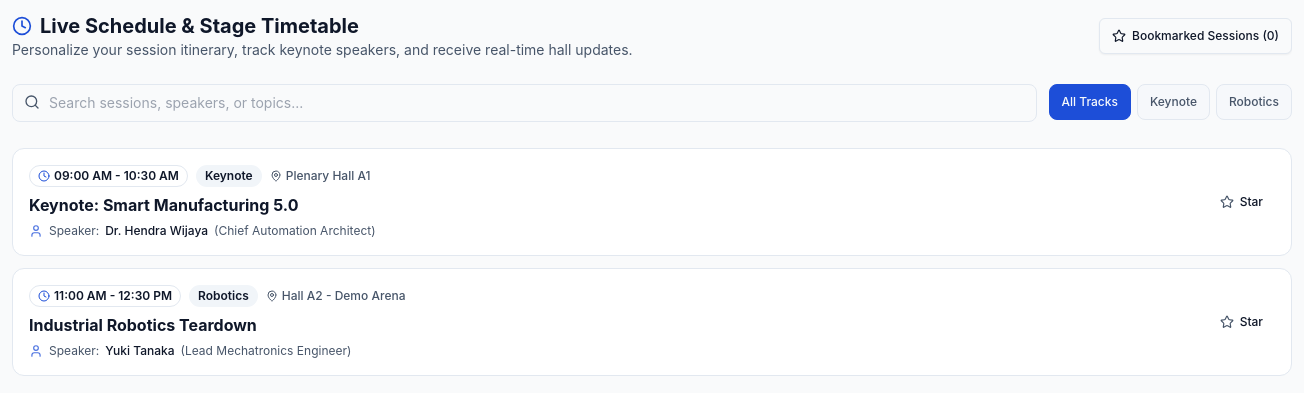
Test case: Phase 6 Unit: Ticket & Event Treats Component System › InteractiveGuidebook Component › toggles Add to My Agenda bookmark star
The width and height of the screenshot is (1304, 393).
# Bookmark first session
Click the 1st button "Star" at (1241, 202), box [1208,184,1275,220]
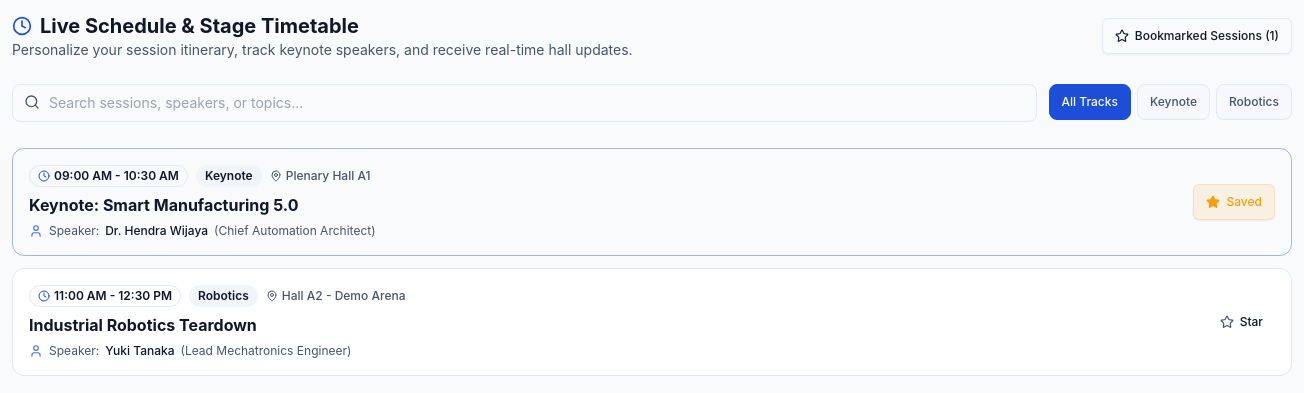
expect the button "Saved" is shown: met, box [1194,184,1275,220]
expect the button "Bookmarked Sessions (1)" is shown: met
# Filter by My Agenda only
Click the button "Bookmarked Sessions (1)" at (1197, 36), box [1102,18,1292,54]
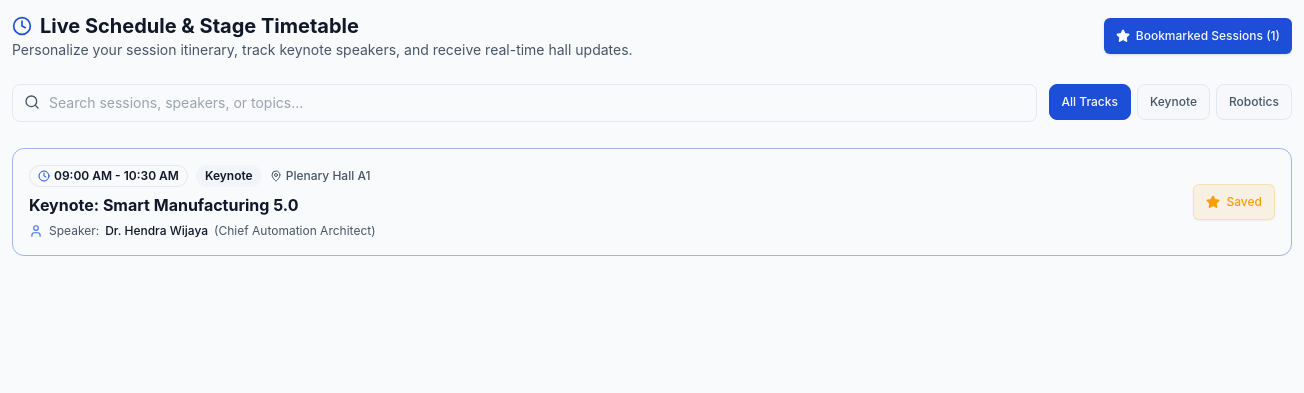
expect the button "Keynote: Smart Manufacturing 5.0" is shown: met, box [29,193,298,217]
expect the button "Industrial Robotics Teardown" is gone: met
